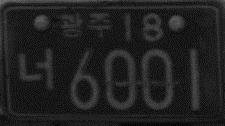0: (141, 47, 173, 111), (104, 49, 136, 110)
1: (186, 47, 202, 112), (121, 11, 134, 41)
6: (70, 47, 100, 111)
8: (142, 12, 162, 42)
광주_O: (59, 9, 112, 40)
너: (15, 47, 55, 93)
